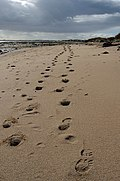human_footprint: (68, 140, 93, 179), (68, 149, 93, 179), (75, 140, 93, 174), (15, 93, 38, 115), (75, 149, 94, 175), (13, 97, 39, 115), (58, 117, 76, 143), (0, 133, 25, 146), (75, 157, 92, 174), (59, 128, 77, 143), (22, 104, 38, 115), (8, 134, 24, 145), (58, 118, 71, 130), (3, 117, 17, 127), (28, 122, 40, 131), (26, 103, 38, 111), (58, 123, 70, 131), (33, 170, 42, 180), (64, 134, 75, 142), (22, 110, 39, 115), (80, 149, 92, 156), (12, 102, 21, 109), (60, 99, 70, 105), (36, 142, 45, 148), (31, 124, 40, 130), (26, 95, 35, 100), (54, 87, 63, 92), (62, 117, 71, 122), (27, 151, 34, 157), (26, 106, 33, 111), (0, 173, 5, 180), (35, 86, 42, 90), (45, 65, 50, 70), (58, 51, 63, 56), (62, 78, 68, 82), (25, 71, 29, 77), (70, 49, 73, 56), (9, 67, 14, 71), (53, 57, 57, 62), (25, 71, 29, 76), (70, 51, 73, 57), (81, 76, 85, 80), (59, 51, 63, 55), (57, 53, 61, 57), (61, 51, 65, 55), (67, 58, 71, 62), (58, 52, 62, 56), (16, 70, 19, 75), (48, 115, 53, 118), (38, 80, 43, 83), (6, 63, 9, 68), (21, 93, 26, 96), (27, 97, 32, 100), (63, 46, 66, 51), (45, 68, 50, 71), (11, 65, 16, 68), (36, 65, 39, 69), (25, 81, 29, 84), (102, 51, 108, 53), (68, 63, 72, 66), (1, 90, 5, 93), (54, 60, 58, 63), (52, 63, 56, 66), (16, 77, 20, 80), (87, 74, 91, 77), (70, 55, 73, 59), (84, 93, 88, 96), (68, 93, 72, 96), (61, 74, 67, 76), (41, 72, 45, 75), (51, 69, 54, 73), (67, 136, 71, 139), (66, 66, 70, 69), (47, 66, 51, 69), (54, 55, 57, 59), (74, 55, 79, 57), (44, 75, 49, 77), (69, 69, 74, 71), (64, 61, 67, 64), (5, 77, 8, 80), (103, 61, 106, 64), (52, 59, 55, 62), (16, 88, 20, 90), (117, 46, 119, 50), (0, 96, 2, 99), (92, 54, 98, 55), (98, 53, 100, 56)
